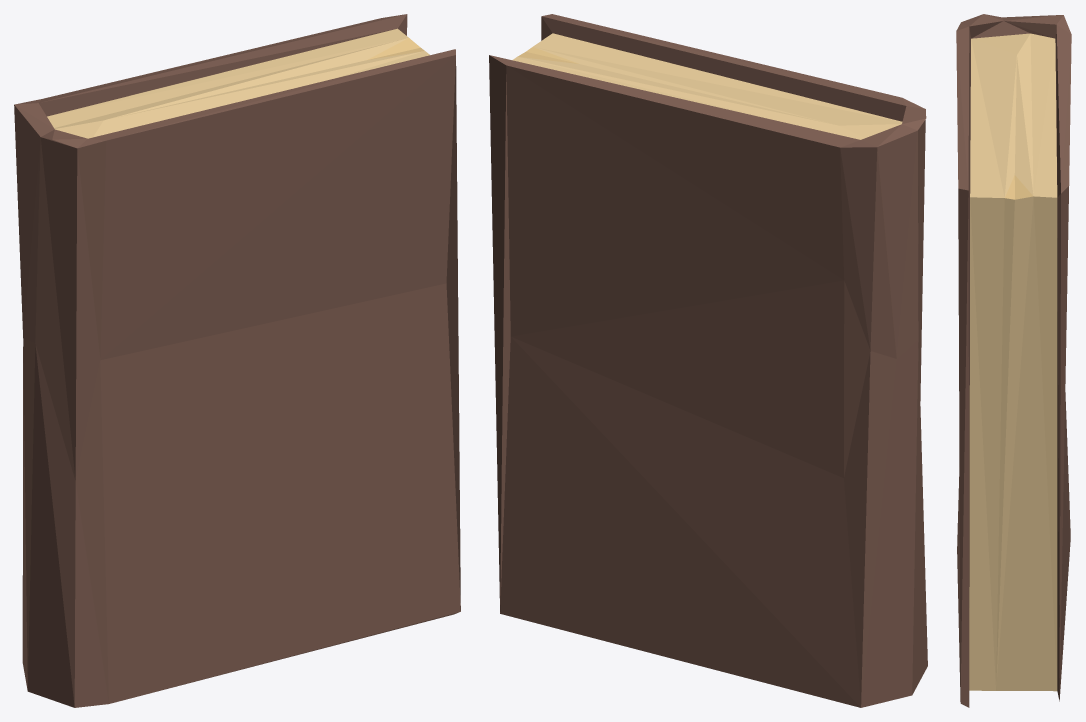
File: SFFA_Book_004.fbx
3 views of the same model, side by side, from view 1: azimuth 30°, elevation 25°; view 2: azimuth 150°, elevation 25°; view 3: azimuth 270°, elevation 25° (orthographic). The views are drawn at different scales.
Parts seen in each view (by area): view 1: SFFA_Book_004; view 2: SFFA_Book_004; view 3: SFFA_Book_004.
Boxes of the visible parts, box(x1,y1,x2,y2) form: SFFA_Book_004: box(14, 14, 460, 707); SFFA_Book_004: box(489, 14, 927, 707); SFFA_Book_004: box(956, 14, 1071, 707).
Size of the model in its own units: 18.29 by 24.61 by 4.95.
